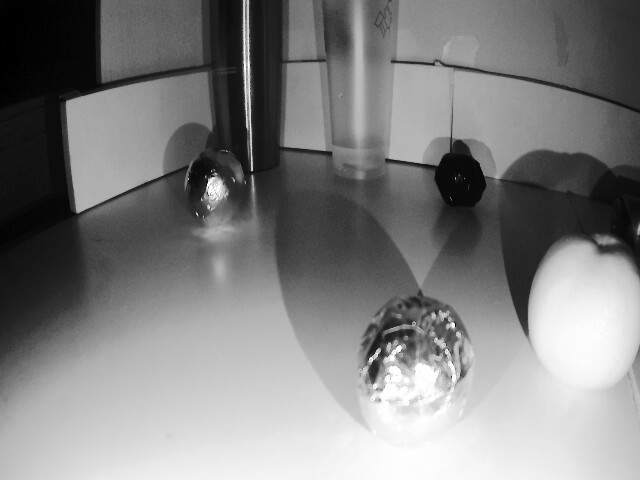black: (346, 290, 477, 451), (178, 150, 252, 224)
silver: (437, 151, 492, 210)
